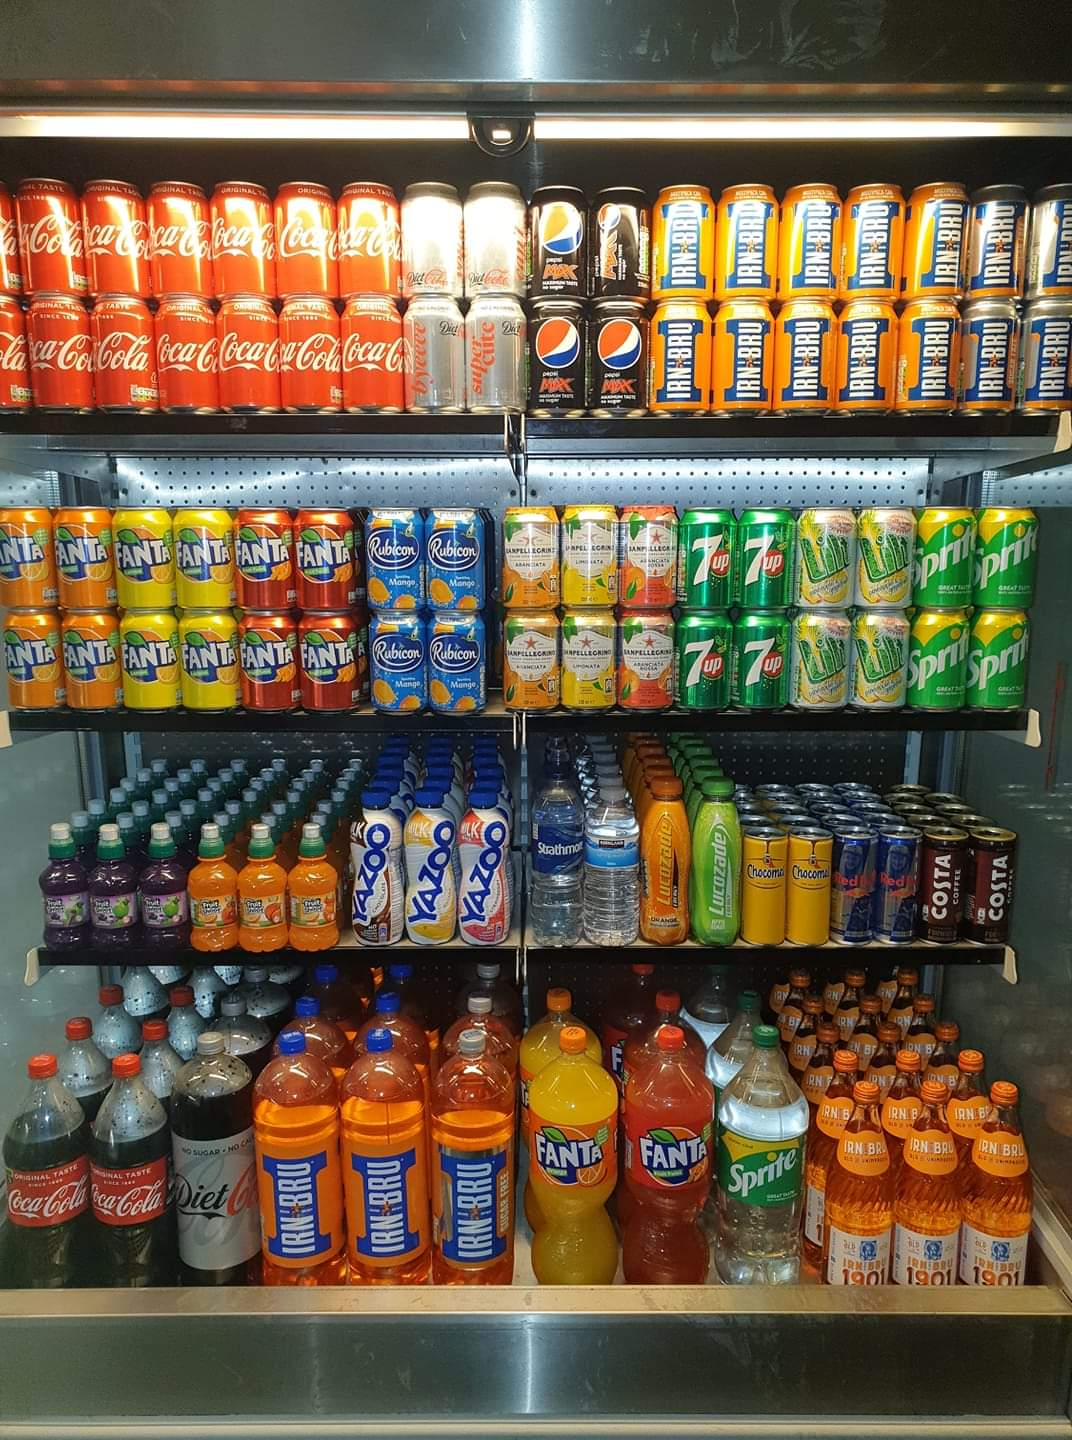7up: (682, 635, 726, 690), (742, 534, 786, 588), (687, 533, 730, 585), (741, 638, 783, 689)
chocomel: (743, 853, 786, 882), (793, 857, 830, 883)
cocacola: (8, 1182, 90, 1220), (90, 1184, 162, 1218)
costacoffee: (988, 857, 1009, 925), (931, 855, 952, 923)
fanta: (535, 1132, 604, 1172), (636, 1136, 706, 1170), (113, 538, 173, 574), (300, 638, 354, 676), (120, 641, 178, 673), (294, 540, 352, 571), (175, 538, 231, 570), (180, 643, 238, 671), (1, 641, 59, 669), (235, 539, 291, 567), (62, 642, 116, 670), (53, 538, 108, 565), (241, 643, 294, 671)
irnbru: (274, 1162, 318, 1256), (454, 1161, 494, 1261), (365, 1161, 404, 1255), (803, 198, 831, 289), (1037, 321, 1070, 399), (735, 198, 762, 288), (670, 202, 698, 286), (860, 203, 888, 287), (921, 317, 949, 402), (986, 203, 1013, 288), (850, 317, 877, 402), (979, 319, 1007, 400), (733, 321, 762, 399), (933, 197, 958, 288), (665, 320, 693, 402), (792, 319, 818, 401), (979, 1138, 1027, 1159), (908, 1136, 955, 1156), (845, 1139, 890, 1157), (841, 1256, 887, 1273), (906, 1254, 955, 1270), (976, 1256, 1022, 1272)
lilt: (860, 530, 912, 582), (799, 533, 854, 581), (856, 636, 906, 685), (799, 637, 848, 685)
lucozade: (708, 829, 729, 919), (655, 820, 673, 907)
pepsi: (534, 316, 582, 370), (596, 317, 643, 372), (538, 202, 583, 256), (595, 202, 624, 232)
redbull: (836, 870, 875, 901), (882, 873, 917, 904)
rubicon: (366, 534, 416, 567), (374, 639, 422, 667), (432, 639, 477, 667), (430, 538, 476, 561)
sprite: (727, 1150, 799, 1195)
strathmore: (534, 840, 586, 856)
yazoo: (405, 821, 454, 924), (461, 820, 503, 929), (352, 824, 391, 927)
